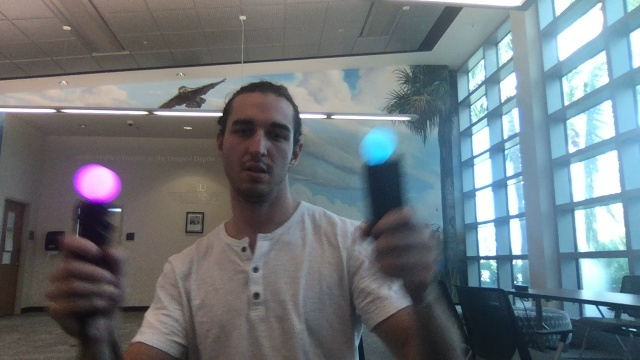wand: (76, 165, 118, 201), (362, 130, 396, 164)
